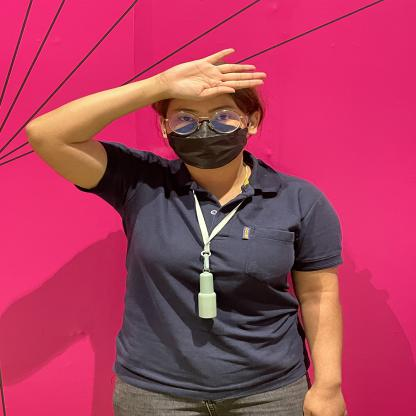Sick: (125, 26, 288, 106)
